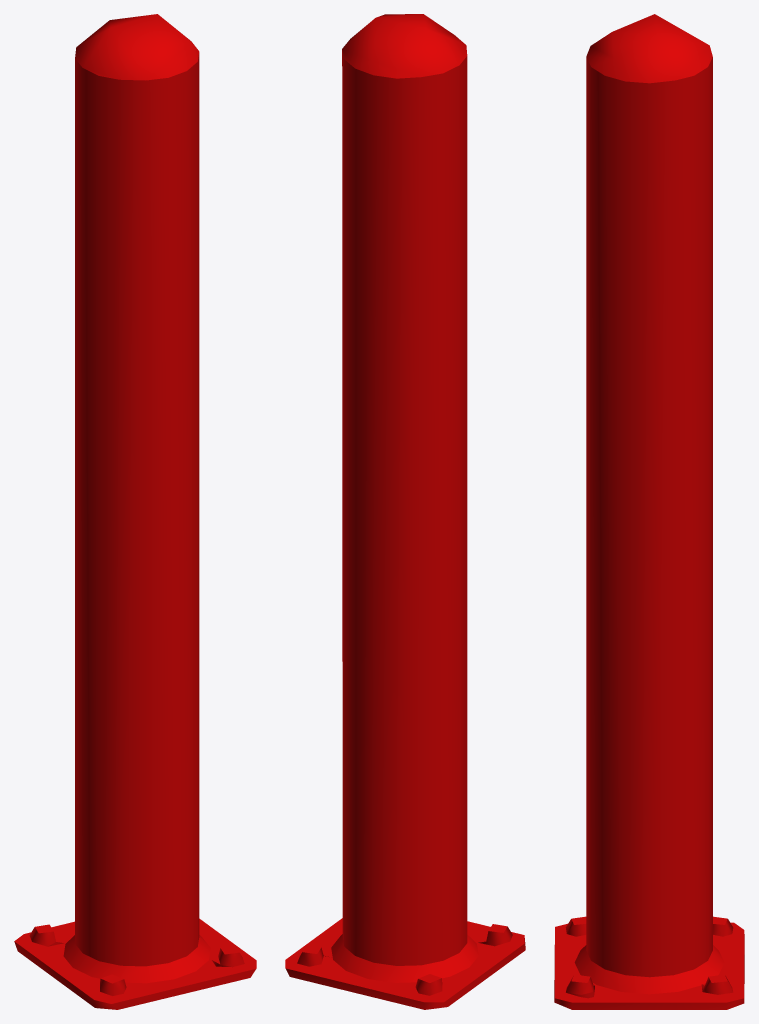
3 renders of one model, left to right at view 1: azimuth 30°, elevation 25°; view 2: azimuth 150°, elevation 25°; view 3: azimuth 270°, elevation 25°, orthographic.
Parts seen in each view (by area): view 1: Mesh; view 2: Mesh; view 3: Mesh.
Part boxes in pixels (x1,y1,x2,y2): Mesh: (14,14,256,1009); Mesh: (285,14,525,1009); Mesh: (554,14,744,1009).
Bounding box in the file's own units: 0.2807 × 1.54 × 0.282.
